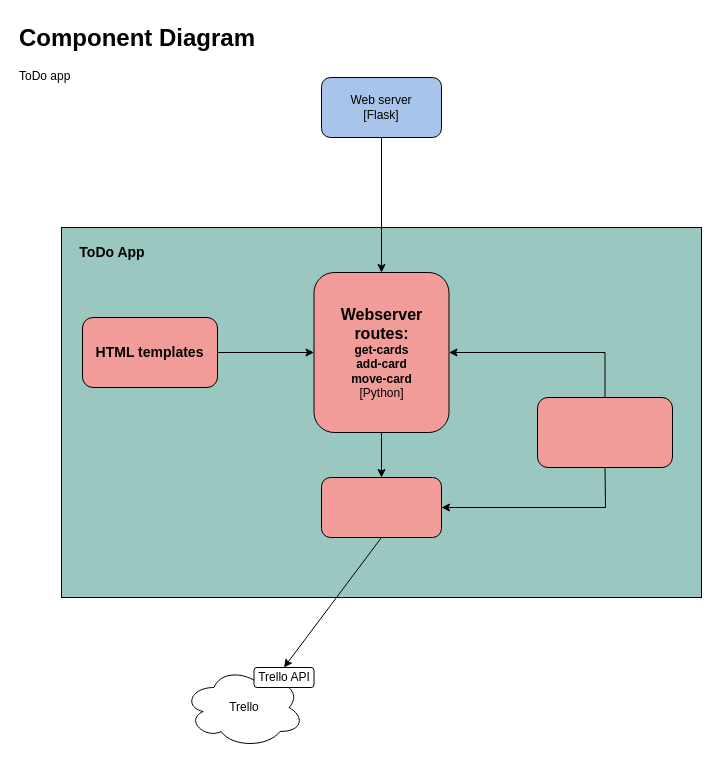
Some shapes in this 719 by 765 pixel diagram are drawn without their labels. Here are the shapes that lost their labels. From the top down, the centre of each, then its label:
At [604,432]: "Data classes [Python]".
At [381,507]: "Trello service [Python]".
